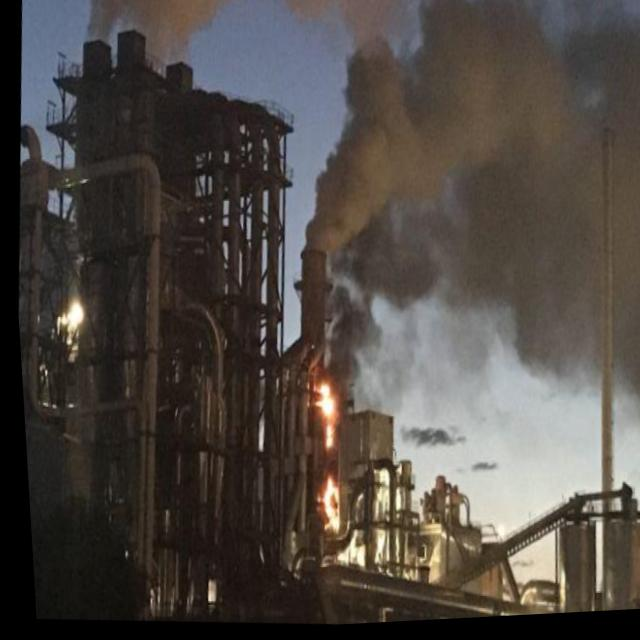fire: (304, 375, 335, 457), (305, 470, 340, 538)
